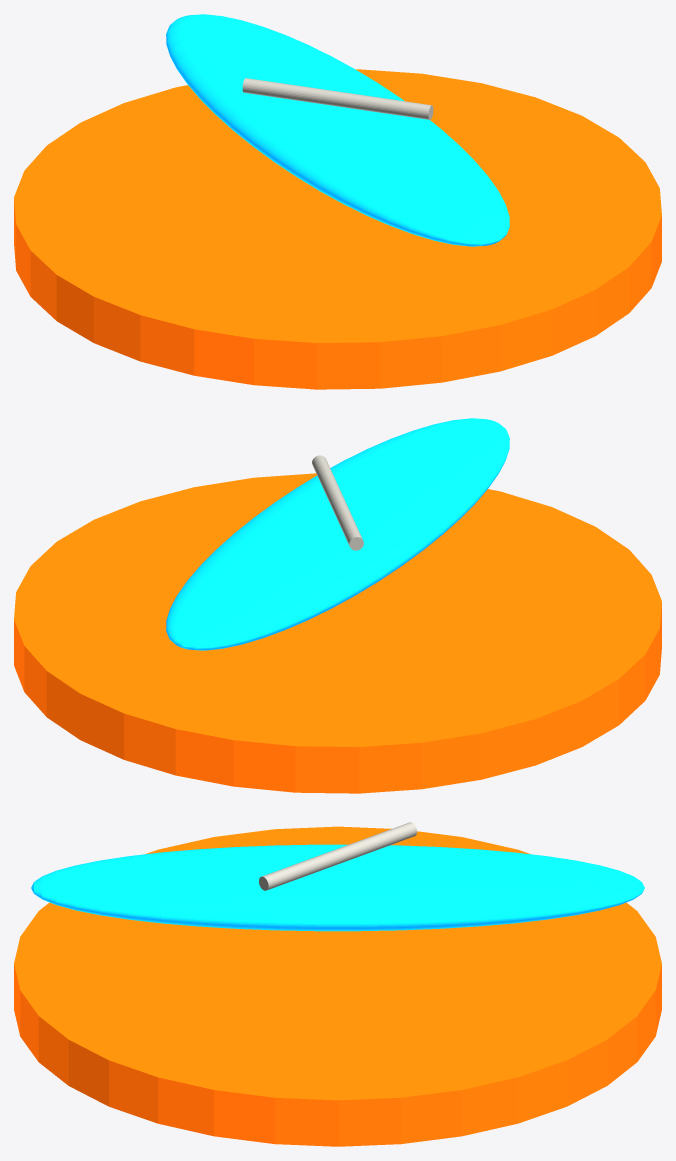
File: spanish_surfboard.dae
3 renders of one model, top to bottom at view 1: azimuth 30°, elevation 25°; view 2: azimuth 150°, elevation 25°; view 3: azimuth 270°, elevation 25°, orthographic.
Visible parts, largest first — view 1: 11_17_Popular_Spanish_Surfboard_ROOT_base, 11_17_Popular_Spanish_Surfboard_part_01, 11_17_Popular_Spanish_Surfboard_part_02; view 2: 11_17_Popular_Spanish_Surfboard_ROOT_base, 11_17_Popular_Spanish_Surfboard_part_01, 11_17_Popular_Spanish_Surfboard_part_02; view 3: 11_17_Popular_Spanish_Surfboard_ROOT_base, 11_17_Popular_Spanish_Surfboard_part_01, 11_17_Popular_Spanish_Surfboard_part_02.
Part boxes in pixels (x1,y1,x2,y2): 11_17_Popular_Spanish_Surfboard_ROOT_base: (14,69,661,389); 11_17_Popular_Spanish_Surfboard_part_01: (166,14,509,246); 11_17_Popular_Spanish_Surfboard_part_02: (242,78,433,119); 11_17_Popular_Spanish_Surfboard_ROOT_base: (14,473,661,793); 11_17_Popular_Spanish_Surfboard_part_01: (166,418,509,650); 11_17_Popular_Spanish_Surfboard_part_02: (312,455,363,550); 11_17_Popular_Spanish_Surfboard_ROOT_base: (14,826,661,1146); 11_17_Popular_Spanish_Surfboard_part_01: (31,844,644,931); 11_17_Popular_Spanish_Surfboard_part_02: (259,822,416,890).
Size of the model in its own units: 0.76 by 0.2072 by 0.76.
